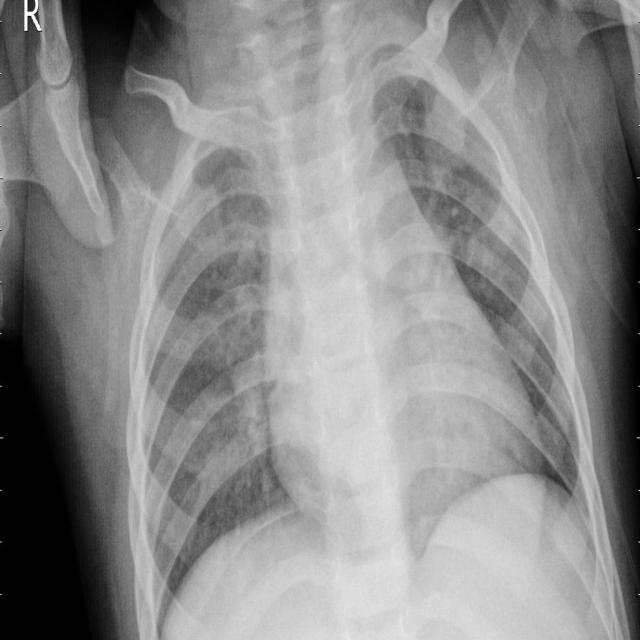low-pneumonia: (197, 281, 276, 474), (179, 82, 268, 247), (424, 59, 488, 185)
